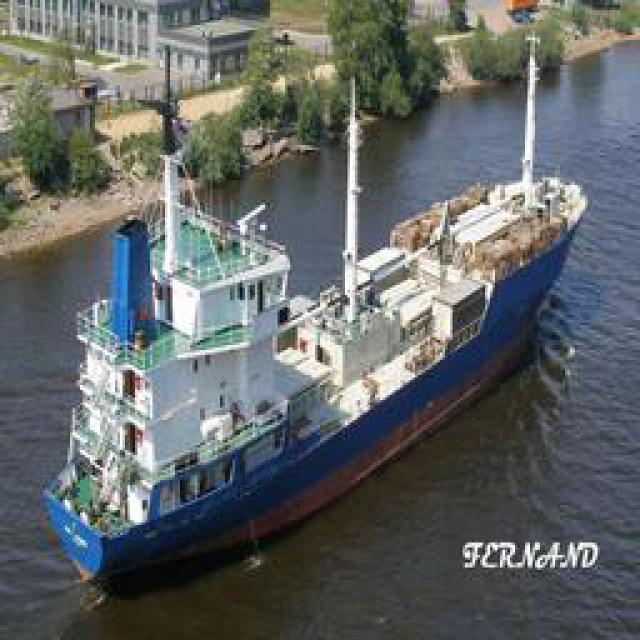Ship: (55, 135, 588, 610)
